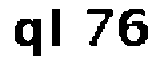6: (117, 7, 148, 52)
7: (84, 6, 114, 52)
l: (50, 6, 70, 50)
q: (12, 17, 43, 60)
